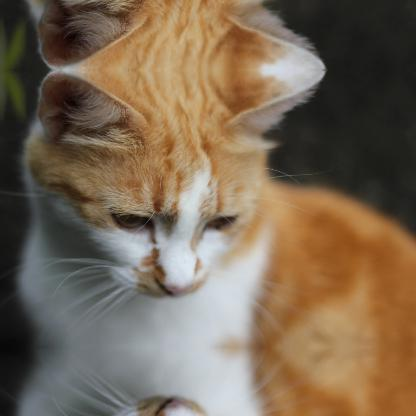Cat: (9, 69, 414, 346), (9, 0, 415, 70), (9, 346, 415, 415)
